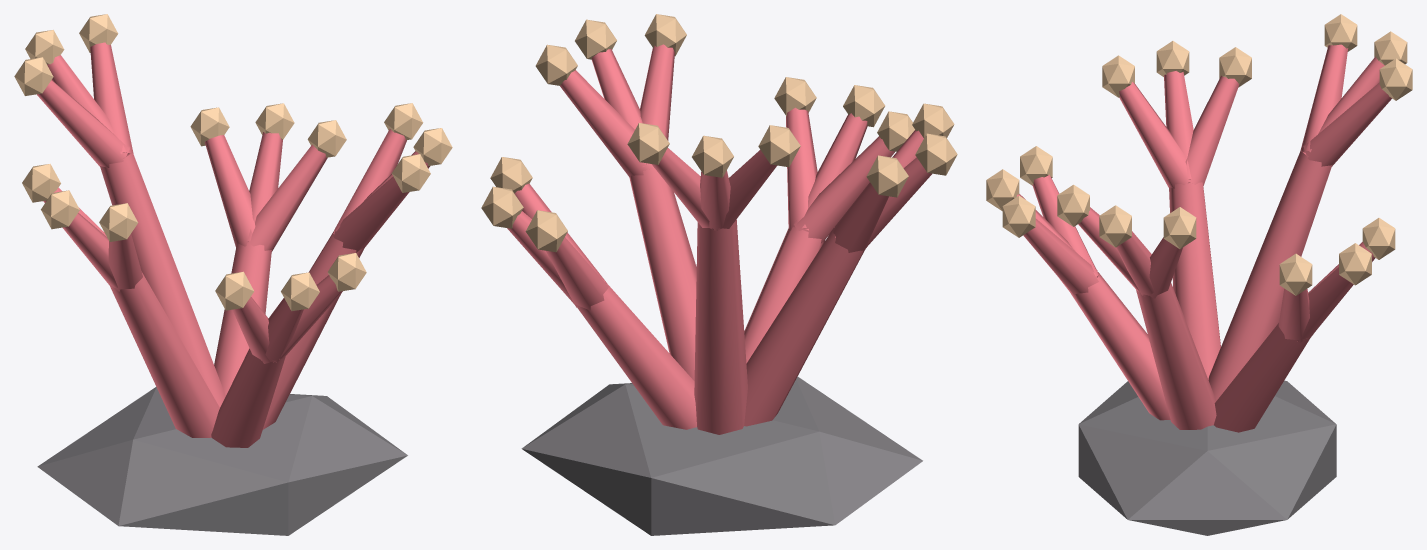
The model's file is ocean-scenery-8.glb.
The picture shows the model from 3 angles, left to right: view 1: azimuth 30°, elevation 25°; view 2: azimuth 150°, elevation 25°; view 3: azimuth 270°, elevation 25°; orthographic projection. The views are drawn at different scales.
Visible parts, largest first — view 1: Branching ocean coral; view 2: Branching ocean coral; view 3: Branching ocean coral.
Boxes of the visible parts, left/top/right/bottom form: Branching ocean coral: left=14, top=14, right=452, bottom=535; Branching ocean coral: left=481, top=14, right=957, bottom=535; Branching ocean coral: left=986, top=14, right=1412, bottom=535.
Size of the model in its own units: 1.54 by 1.67 by 1.54.
